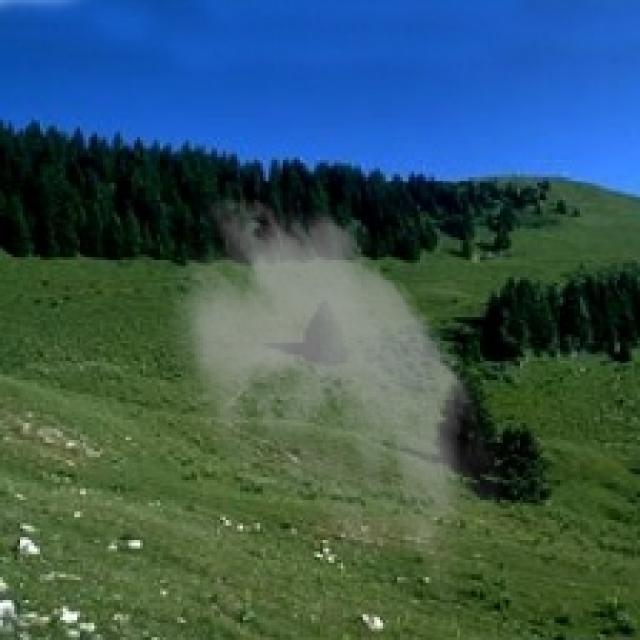Smoke: (152, 182, 512, 608)
